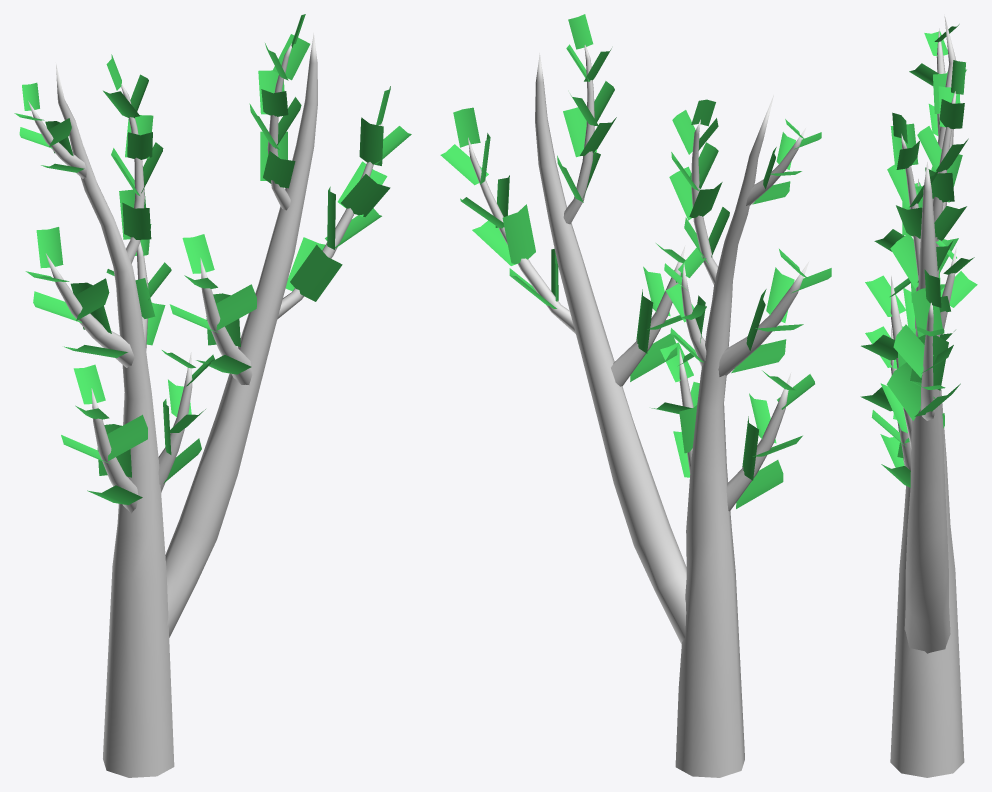
File: Birch_C.fbx
3 views of the same model, side by side, from view 1: azimuth 30°, elevation 25°; view 2: azimuth 150°, elevation 25°; view 3: azimuth 270°, elevation 25° (orthographic). The views are drawn at different scales.
Visible parts, largest first — view 1: Birch_C_LOD0; view 2: Birch_C_LOD0; view 3: Birch_C_LOD0.
Part boxes in pixels (x1=…): Birch_C_LOD0: x1=14, y1=14, x2=411, y2=777; Birch_C_LOD0: x1=440, y1=14, x2=831, y2=777; Birch_C_LOD0: x1=860, y1=16, x2=977, y2=777.
Size of what is drawn, in the model's own units: 4.77 by 8.46 by 1.25.
